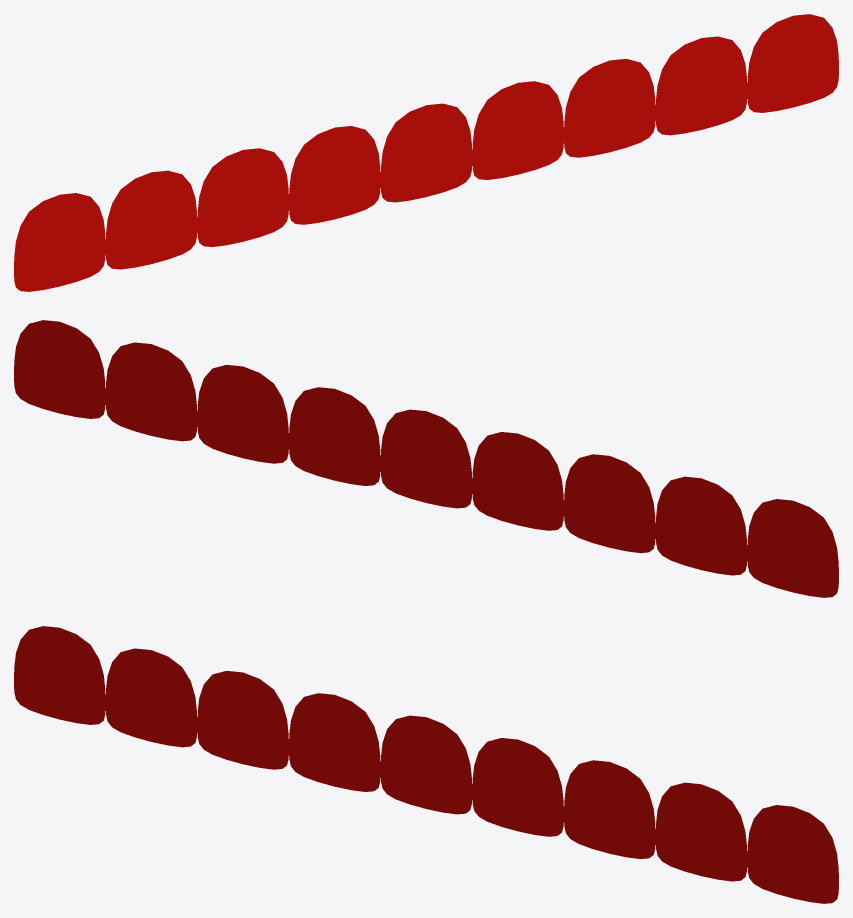
The model's file is Seat.fbx.
The picture shows the model from 3 angles, top to bottom: view 1: azimuth 30°, elevation 25°; view 2: azimuth 150°, elevation 25°; view 3: azimuth 330°, elevation 25°; orthographic projection.
Visible parts, largest first — view 1: 平面.002; view 2: 平面.002; view 3: 平面.002.
Boxes of the visible parts, box(x1,y1,x2,y2) form: 平面.002: box(14, 14, 838, 291); 平面.002: box(14, 320, 838, 597); 平面.002: box(14, 626, 838, 903).
Size of the model in its own units: 1081 by 115 by 5.03e-06.
